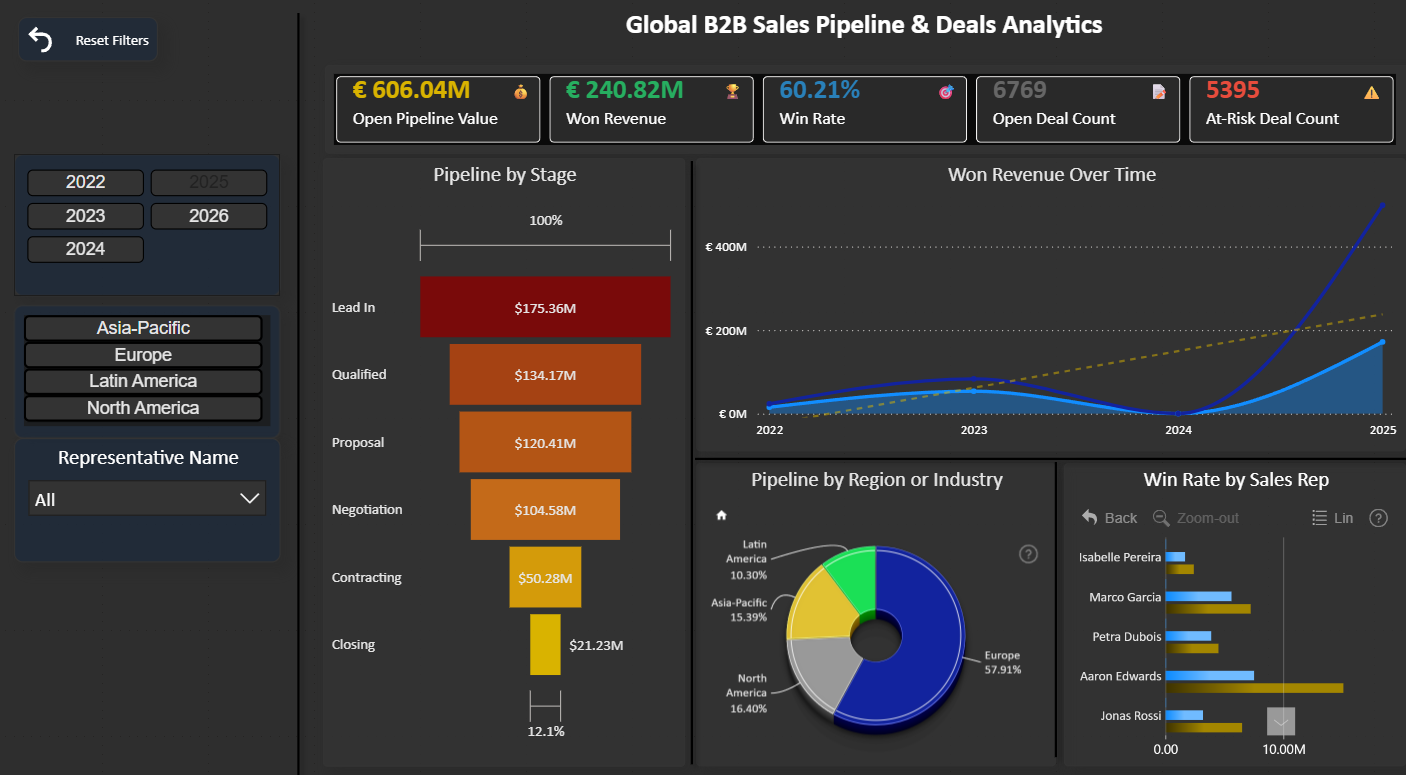

The page's visual inventory and layout, read from the dashboard file:
{"tool":"powerbi","page":{"name":"Executive Summary","canvas":[1280,720],"ordinal":0},"visuals":[{"type":"ChicletSlicer1448559807354","fields":{"Category":["DimDate.Year"]},"box":[16,144,240,128],"z":0},{"type":"ChicletSlicer1448559807354","fields":{"Category":["DimCompany.Region"]},"box":[16,264,240,120],"z":1000},{"type":"cardVisual","fields":{"Data":["_Measures.Open Pipeline Value","_Measures.Won Revenue","_Measures.Win Rate","_Measures.Open Deal Count","_Measures.At-Risk Deal Count"]},"box":[296,64,976,80],"z":1500},{"type":"slicer","title":"Representative Name","fields":{"Values":["DimSalesRep.RepName"]},"box":[16,400,240,112],"z":2000},{"type":"shape","box":[232,8,80,704],"z":4000},{"type":"funnel","title":"Pipeline by Stage","fields":{"Category":["FactDeals.StageName"],"Y":["_Measures.Pipeline Value in Stage"]},"box":[294.7,147.8,325.8,547.6],"z":5000},{"type":"lineChart","title":"Won Revenue Over Time","fields":{"Category":["DimDate.Year","DimDate.Quarter","DimDate.Month"],"Y":["_Measures.Won Revenue","_Measures.Open Pipeline Value"]},"box":[630.3,147.8,639,263.6],"z":6000},{"type":"ZoomChartsPieChartPaidE77E4ED357DC402ABA005987437CF500","title":"Pipeline by Region or Industry","fields":{"Values":["_Measures.Open Pipeline Value"],"Category":["DimCompany.Region","DimCompany.Industry"]},"box":[630.3,422.1,323.9,273.3],"z":7000},{"type":"ZoomChartsDrillDownComboBarProE77E4ED357DC402ABA005987437CF8","title":"Win Rate by Sales Rep","fields":{"Category":["DimSalesRep.RepName","DimSalesRep.Seniority","FactActivities.ProductCategory"],"Values1":["_Measures.Rep Win Rate"],"Values2":["_Measures.Rep Won Revenue"],"Values3":["_Measures.Rep Pipeline Value"]},"box":[961,422.1,308.3,273.3],"z":8000},{"type":"actionButton","box":[19.8,20.6,125.7,40.4],"z":9000},{"type":"textbox","box":[294.5,7.2,974.1,44],"z":10000},{"type":"textbox","box":[457.9,73.6,34.1,32.3],"z":11000},{"type":"textbox","box":[649.1,73.6,31.4,31.4],"z":12000},{"type":"textbox","box":[841.2,73.6,29.6,27.8],"z":13000},{"type":"textbox","box":[1032.4,73.6,30.5,30.5],"z":14000},{"type":"shape","box":[587.1,140.9,79,561.1],"z":16000},{"type":"textbox","box":[1224.5,73.6,33.2,31.4],"z":16500},{"type":"shape","box":[620.3,385.1,659.9,66.4],"z":17000},{"type":"shape","box":[914.8,412.1,79,283.7],"z":18000}]}

Visuals, with their boxes in screenshot pixels (x1, y1, x2, y2), scaled from the page's 1280x720 canvas onto the 1406x775 screenshot:
ChicletSlicer1448559807354 - DimDate.Year: [x1=18, y1=155, x2=281, y2=293]
ChicletSlicer1448559807354 - DimCompany.Region: [x1=18, y1=284, x2=281, y2=413]
cardVisual - _Measures.Open Pipeline Value x _Measures.Won Revenue: [x1=325, y1=69, x2=1397, y2=155]
"Representative Name" slicer: [x1=18, y1=431, x2=281, y2=551]
shape: [x1=255, y1=9, x2=343, y2=766]
"Pipeline by Stage" funnel: [x1=324, y1=159, x2=682, y2=749]
"Won Revenue Over Time" lineChart: [x1=692, y1=159, x2=1394, y2=443]
"Pipeline by Region or Industry" ZoomChartsPieChartPaidE77E4ED357DC402ABA005987437CF500: [x1=692, y1=454, x2=1048, y2=749]
"Win Rate by Sales Rep" ZoomChartsDrillDownComboBarProE77E4ED357DC402ABA005987437CF8: [x1=1056, y1=454, x2=1394, y2=749]
actionButton: [x1=22, y1=22, x2=160, y2=66]
textbox: [x1=323, y1=8, x2=1393, y2=55]
textbox: [x1=503, y1=79, x2=540, y2=114]
textbox: [x1=713, y1=79, x2=747, y2=113]
textbox: [x1=924, y1=79, x2=957, y2=109]
textbox: [x1=1134, y1=79, x2=1168, y2=112]
shape: [x1=645, y1=152, x2=732, y2=756]
textbox: [x1=1345, y1=79, x2=1382, y2=113]
shape: [x1=681, y1=415, x2=1405, y2=486]
shape: [x1=1005, y1=444, x2=1092, y2=749]
